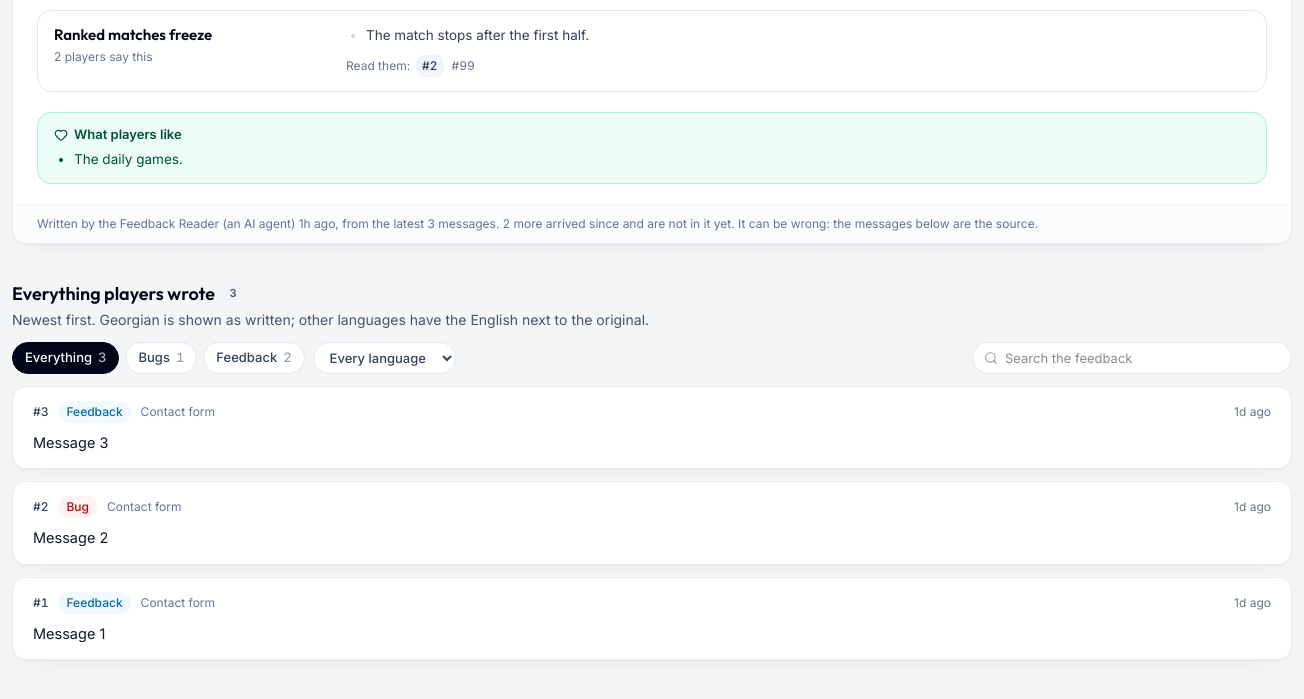
it: shows the recap, says what it does not cover, and leads from a theme to the message
(page scrolled)
Expected: the text "2 players say this" is shown, [54, 49, 152, 64]
Expected: the text "2 more arrived since and are not in it yet" is shown, [499, 216, 735, 231]
Click the button "Bugs 1". click: (161, 358)
box: [126, 342, 197, 374]
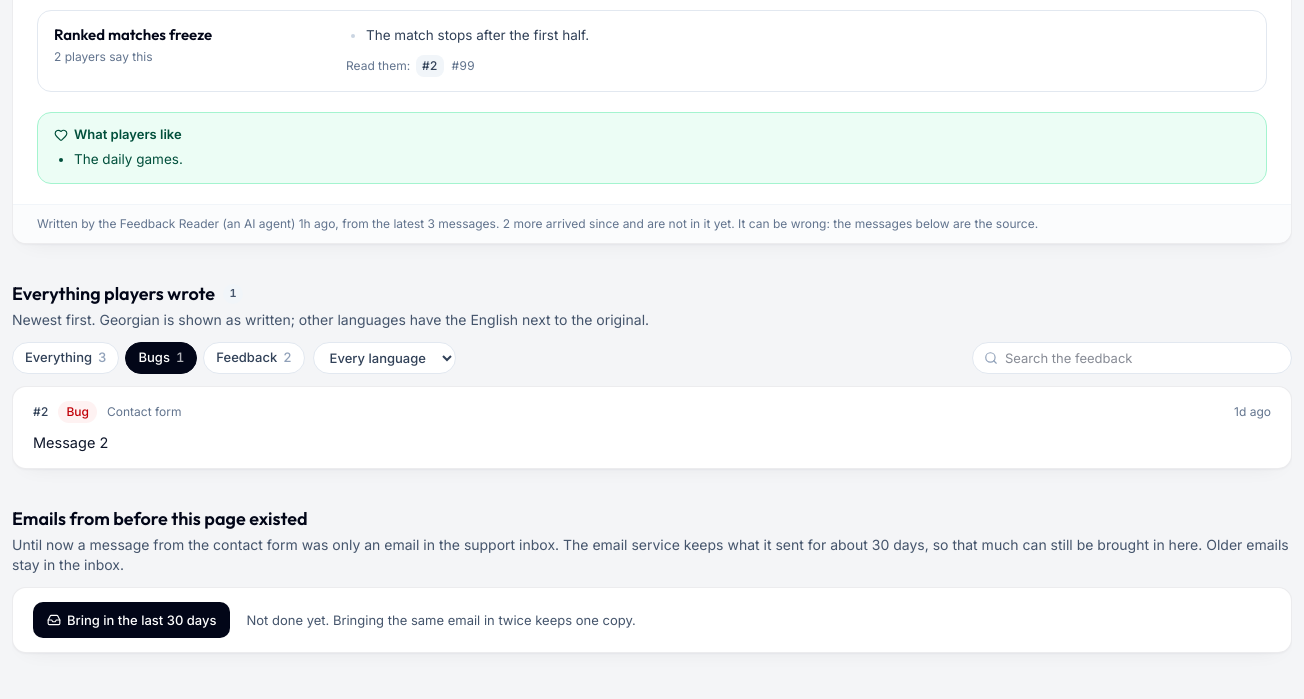
Click the button "#2". click: (430, 66)
box: [416, 55, 444, 77]
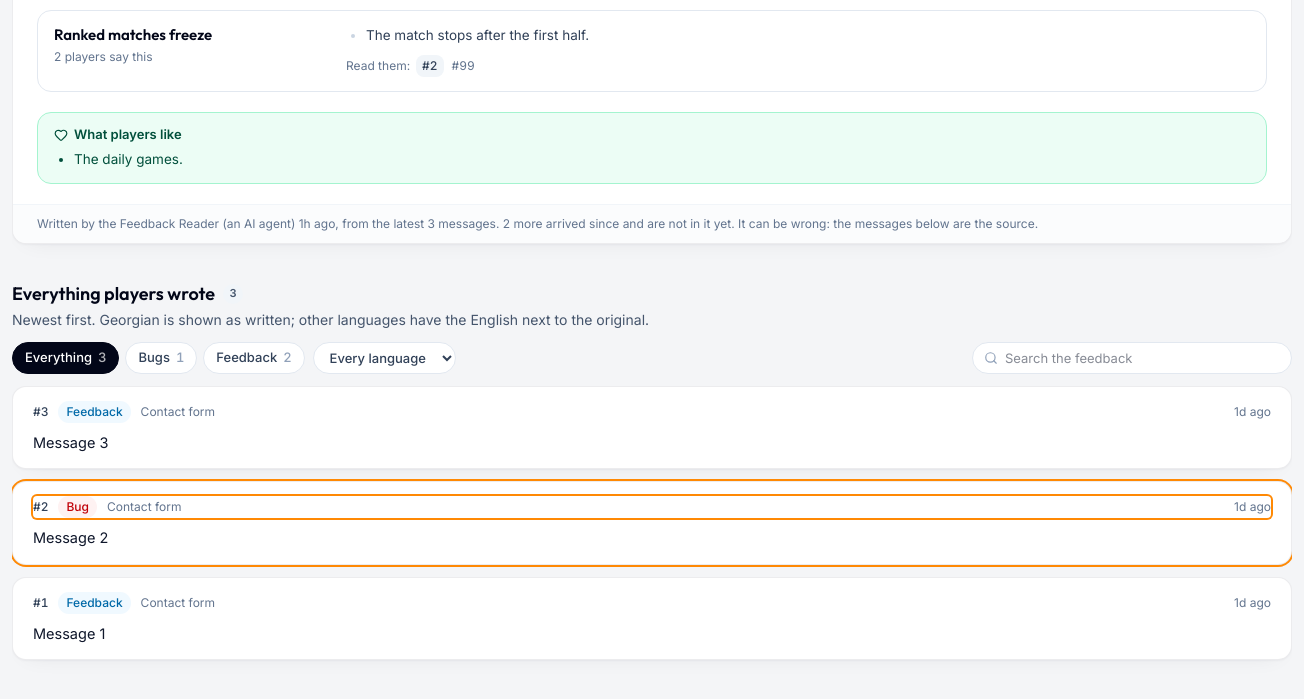
Now the element named "Feedback 3" is shown, box [12, 386, 1292, 469]
